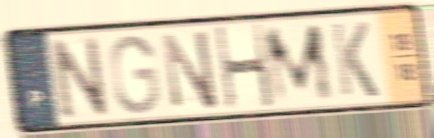G: (107, 32, 162, 117)
H: (212, 21, 277, 113)
K: (328, 20, 382, 100)
M: (261, 20, 338, 108)
N: (46, 33, 113, 123), (159, 26, 221, 112)
